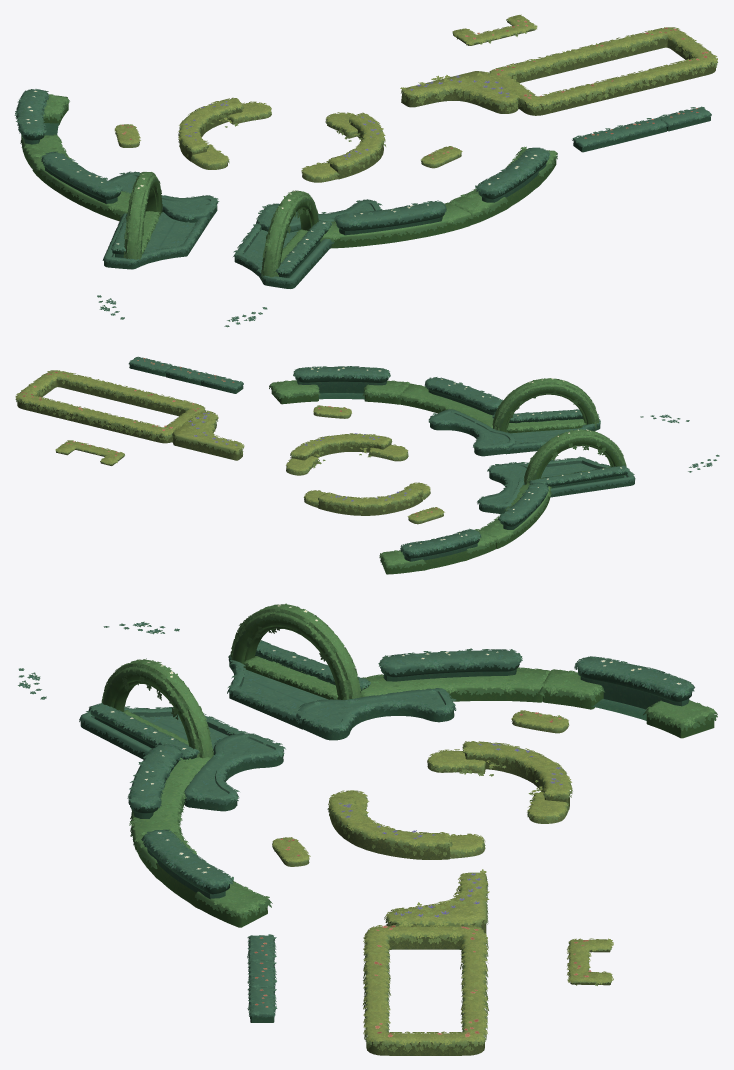
Rendered from pref_sm_garden_bush_vertexcolor_03_lv2.fbx.
3 renders of one model, top to bottom at view 1: azimuth 30°, elevation 25°; view 2: azimuth 150°, elevation 25°; view 3: azimuth 270°, elevation 25°, orthographic. The views are drawn at different scales.
Parts seen in each view (by area): view 1: pref_sm_garden_bush_vertexcolor_03_lv2; view 2: pref_sm_garden_bush_vertexcolor_03_lv2; view 3: pref_sm_garden_bush_vertexcolor_03_lv2.
Part boxes in pixels (bbox=[...]): pref_sm_garden_bush_vertexcolor_03_lv2: bbox=[14, 14, 717, 327]; pref_sm_garden_bush_vertexcolor_03_lv2: bbox=[15, 356, 719, 574]; pref_sm_garden_bush_vertexcolor_03_lv2: bbox=[18, 603, 717, 1055].
Size of the model in its own units: 72.7 by 6.49 by 49.94.
